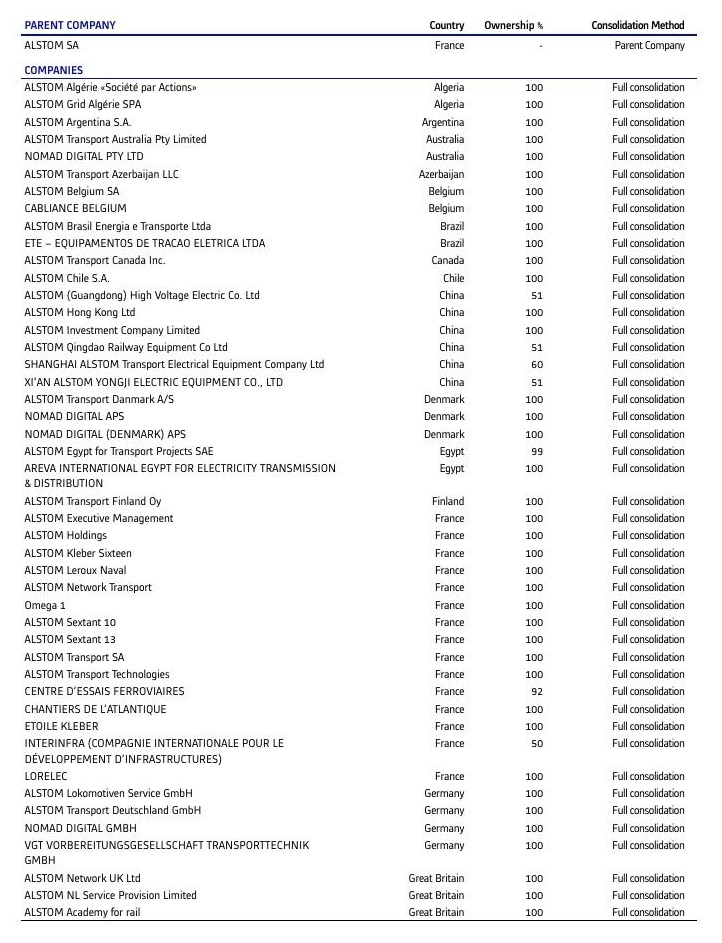table: (0, 0, 722, 943)
